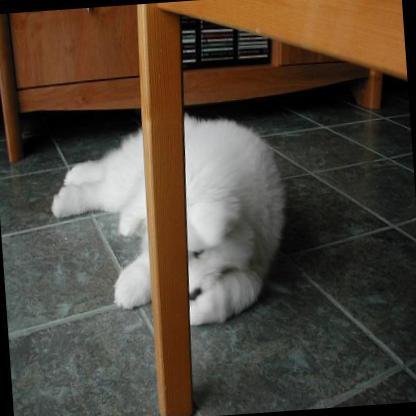Samoyed: (41, 97, 296, 335)
